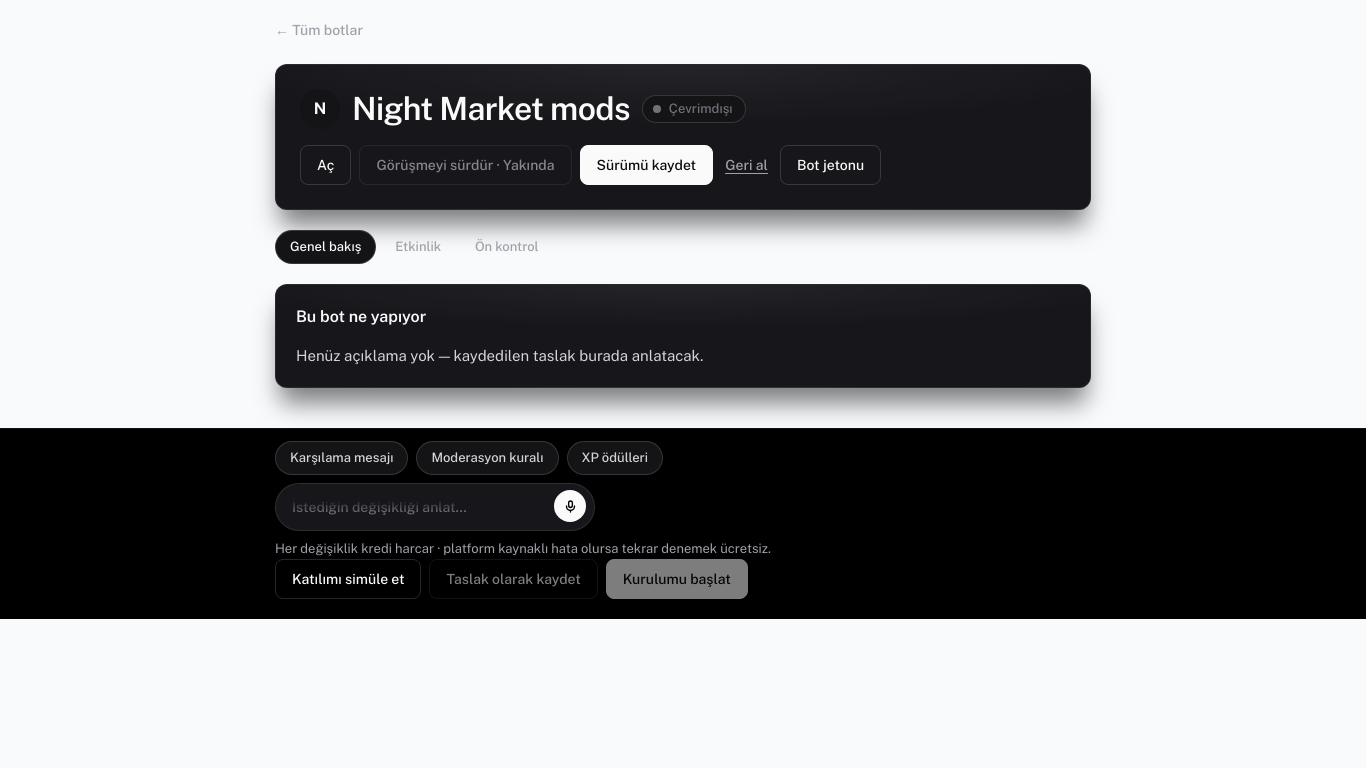
Scenario: bot detail page › submitting composer text appends the thread row and opens a stream to /api/chat
Click the button with aria-label "Open prompt input" at x=435, y=508, box [276,484,594,531]
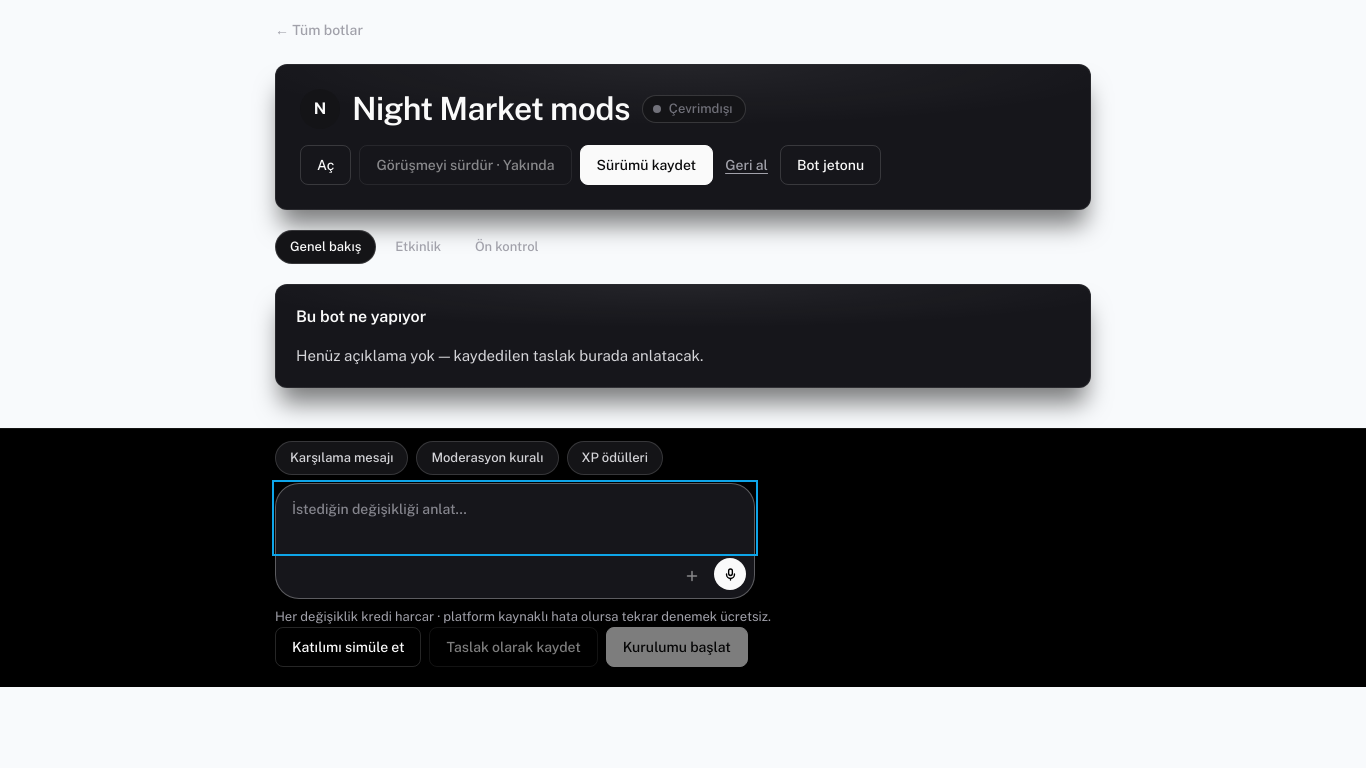
Type "Make the header bolder" into the text box named "Prompt" at x=515, y=518, box [276,484,754,552]
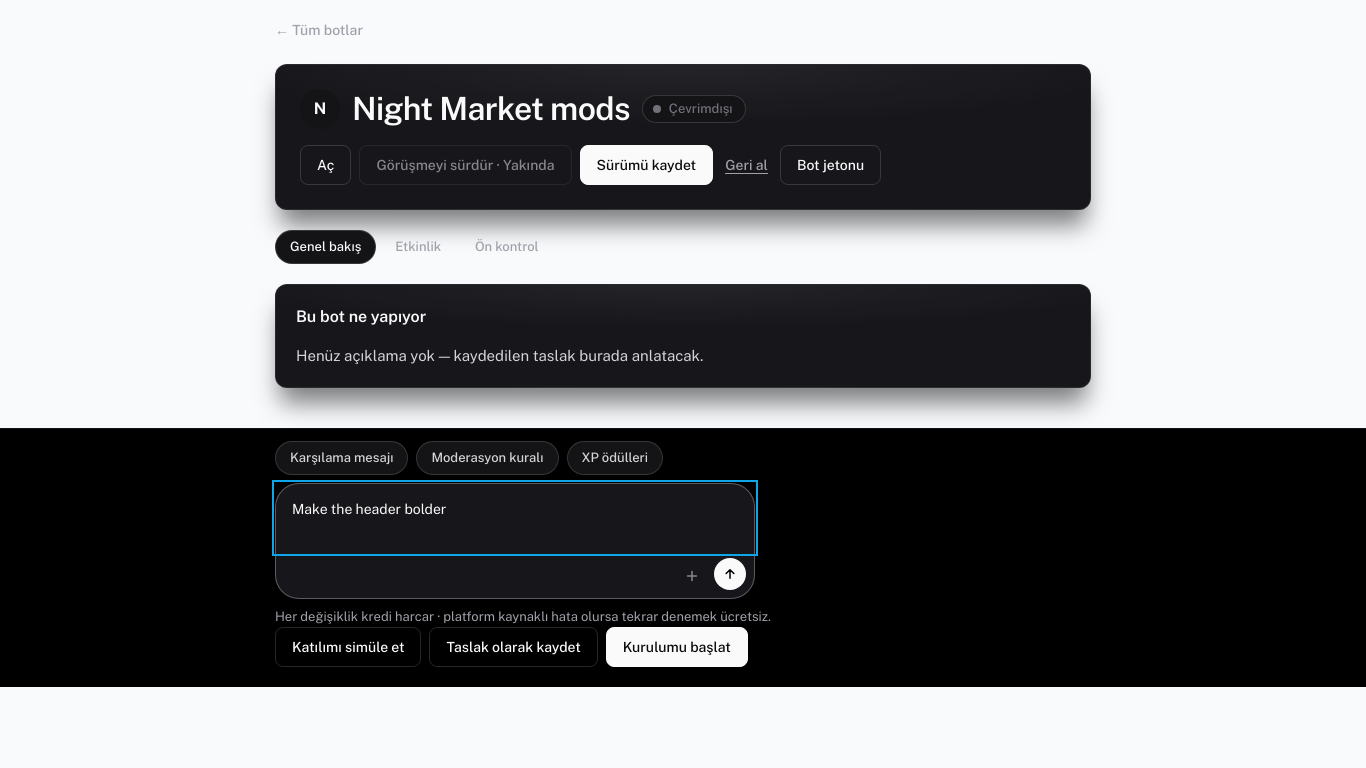
Press Enter in the text box named "Prompt", box [276,484,754,552]
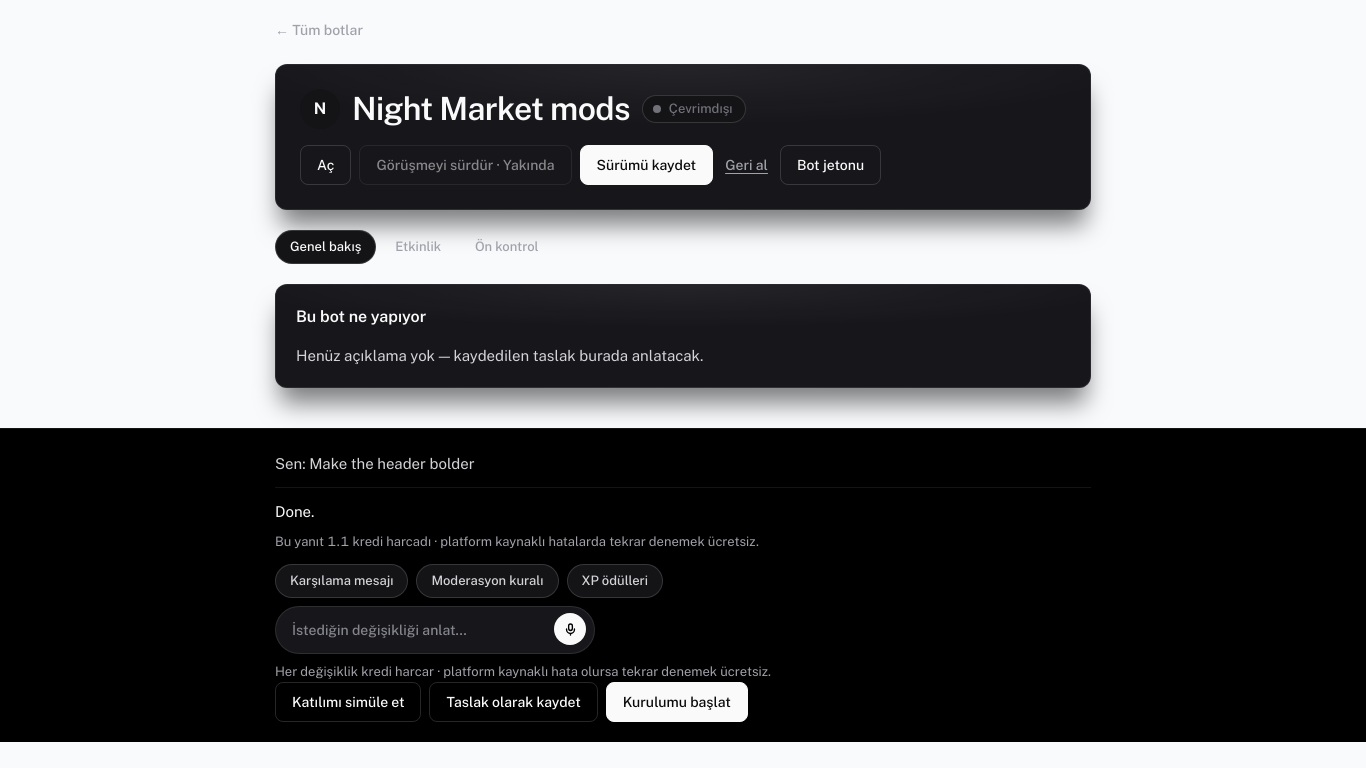
Expected: the list named "Gönderilen değişiklikler" shows "Sen: Make the header bolder", [275,441,1091,564]
Expected: the text "Done." is shown, [275,503,314,520]
